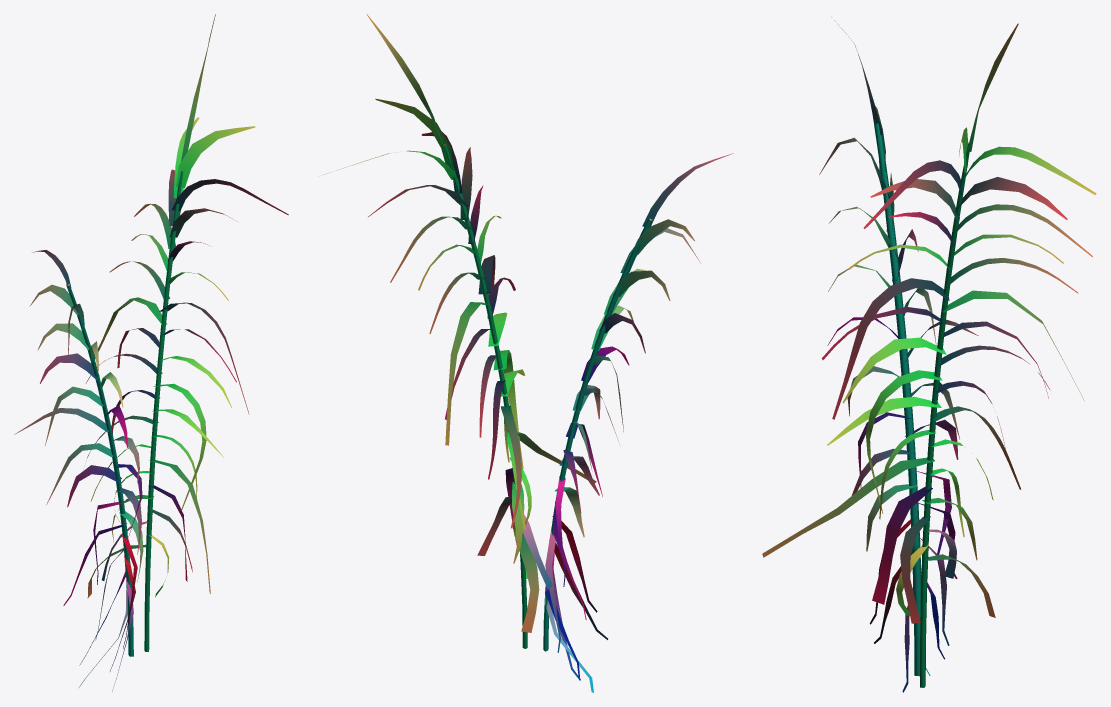
Rendered from Giant_Reed_sjllX_Mid_sjllX_VarC_LOD0.fbx.
The picture shows the model from 3 angles, left to right: view 1: azimuth 30°, elevation 25°; view 2: azimuth 150°, elevation 25°; view 3: azimuth 270°, elevation 25°; orthographic projection. The views are drawn at different scales.
Visible parts, largest first — view 1: _6527_VarC_LOD1; view 2: _6527_VarC_LOD1; view 3: _6527_VarC_LOD1.
Part boxes in pixels (bbox=[...]): _6527_VarC_LOD1: bbox=[14, 14, 288, 691]; _6527_VarC_LOD1: bbox=[323, 14, 733, 692]; _6527_VarC_LOD1: bbox=[762, 17, 1096, 692].
Size of the model in its own units: 99.13 by 209 by 83.13.
